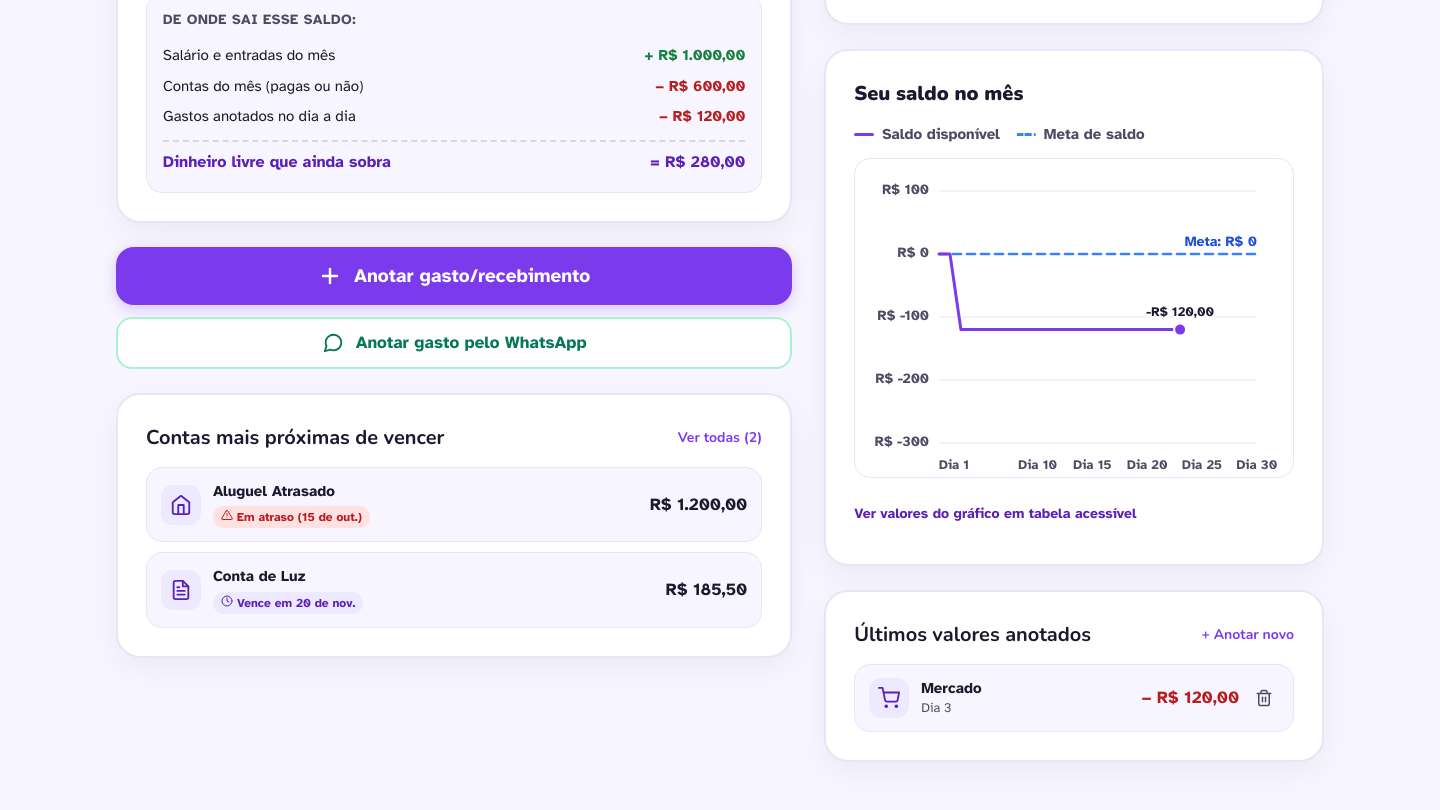
Test case: Página Inicio (Dashboard do Vero com Gráfico e Origem do Saldo) › apaga o gasto na API depois de confirmar
(page scrolled)
What coordinates should you click on to do the following:
click the button named "apagar gasto de mercado"
I would click on:
 (1264, 698)
Its box is [1249,682,1279,712].
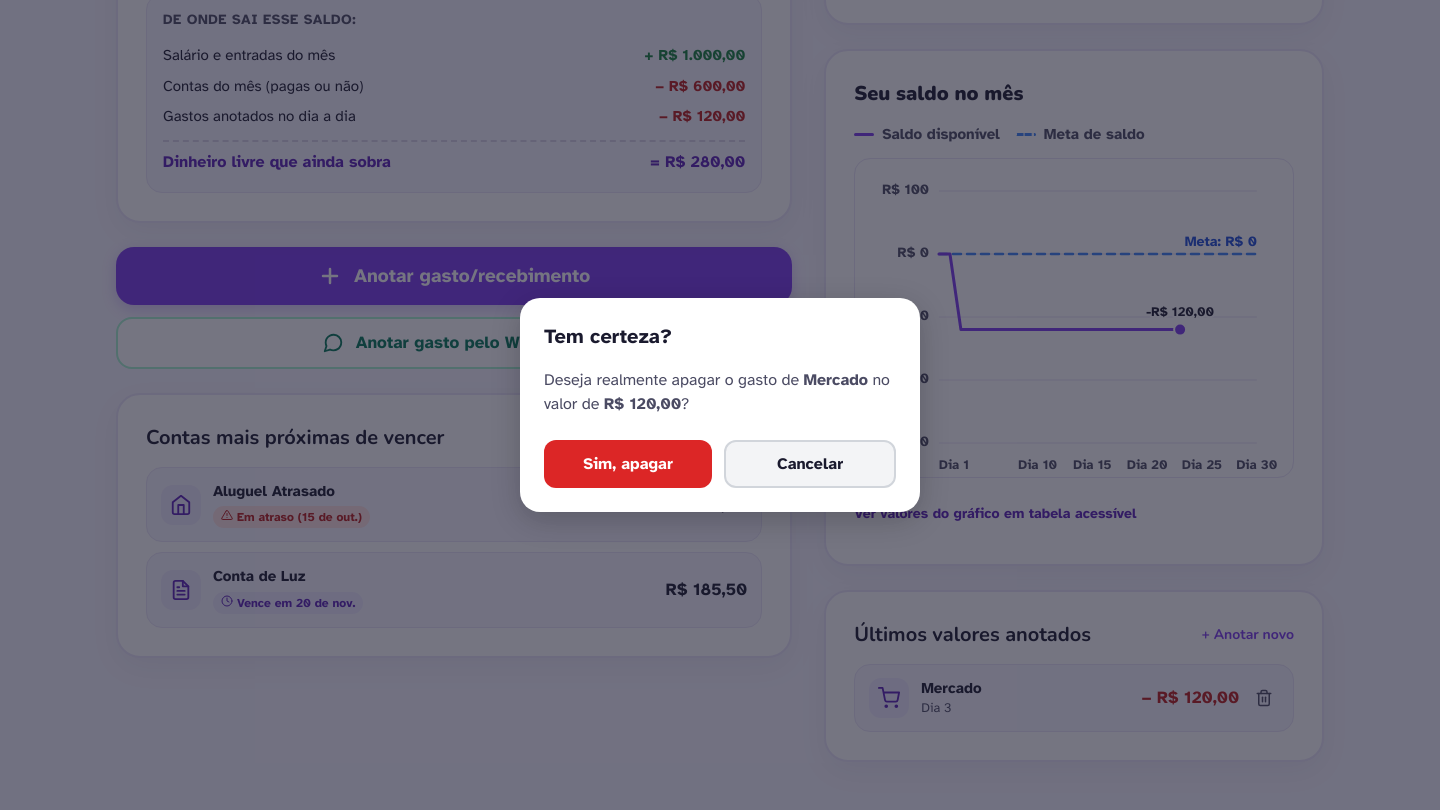
What coordinates should you click on to do the following:
click the button "Sim, apagar"
I would click on:
 (628, 464)
Its box is [544,440,712,488].
(page scrolled)
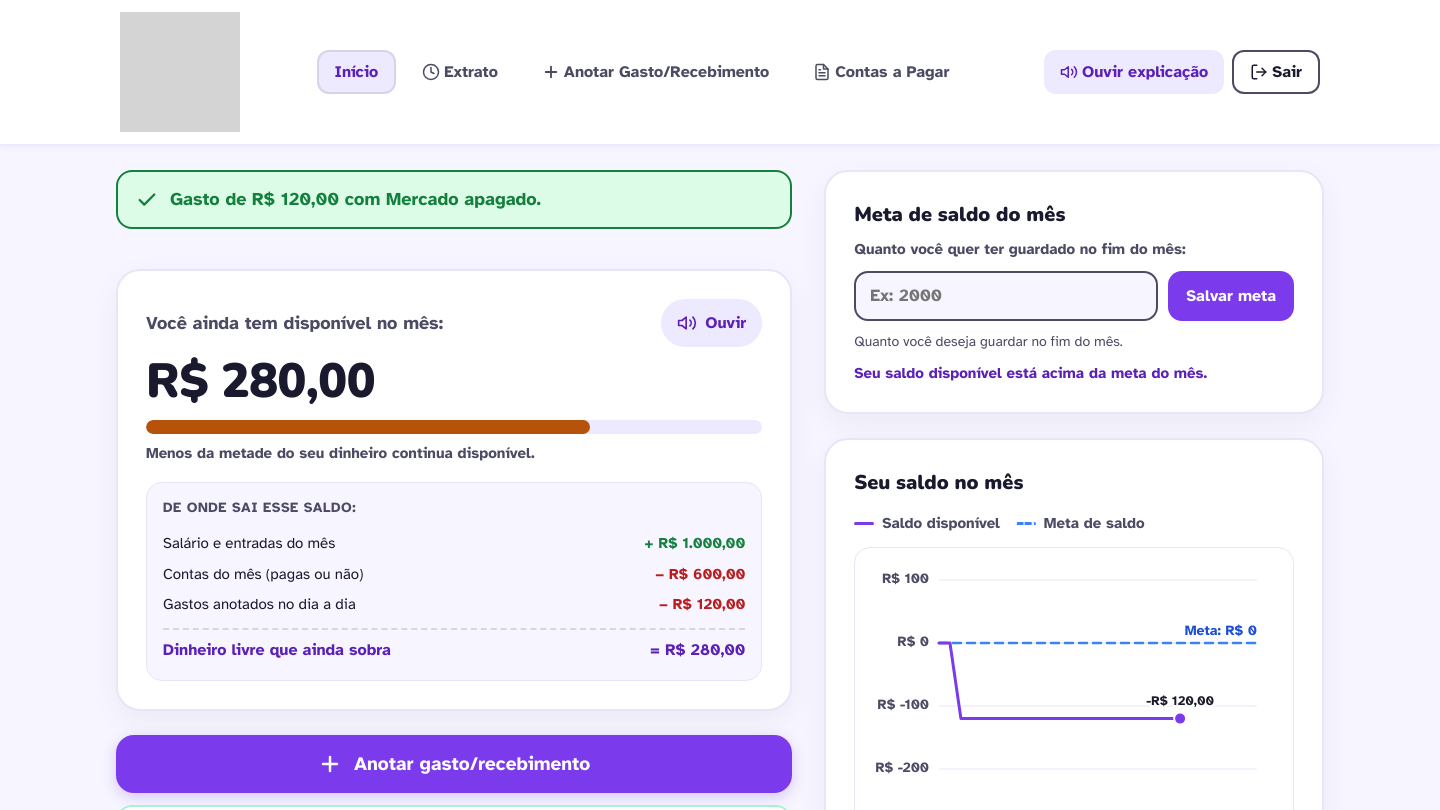
Result: the text "Gasto de R$ 120,00 com Mercado apagado." is shown at [170,188,541,210]
